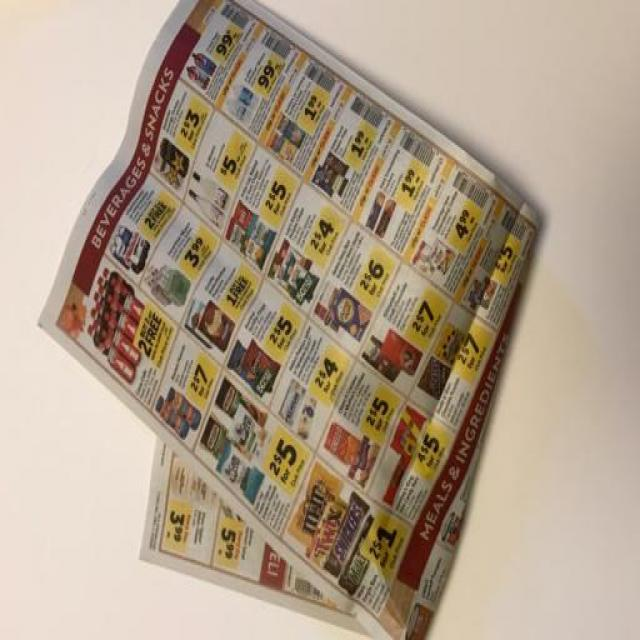paper: (40, 1, 530, 640)
